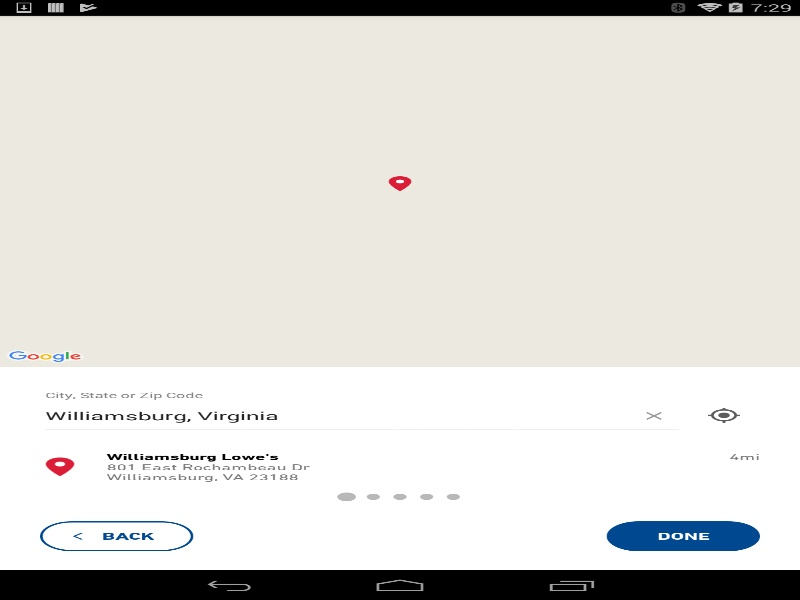Button: (606, 521, 760, 551), (40, 521, 193, 551)
Input: (40, 398, 684, 434)
